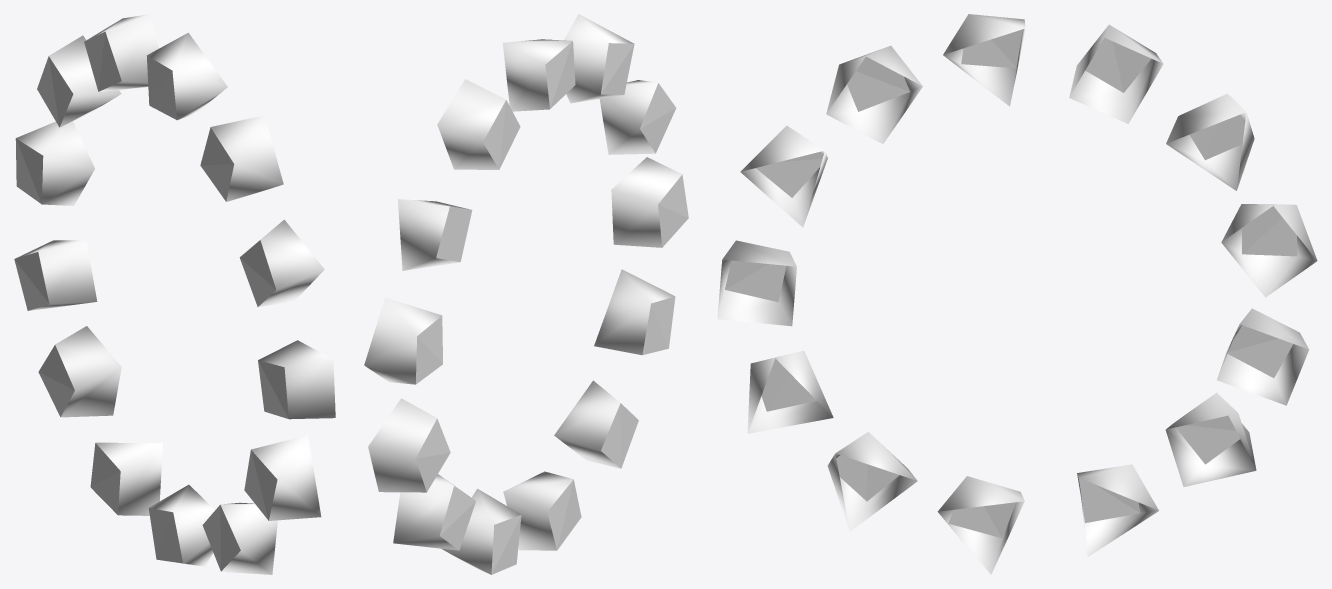
The picture shows the model from 3 angles, left to right: view 1: azimuth 30°, elevation 25°; view 2: azimuth 150°, elevation 25°; view 3: azimuth 270°, elevation 25°; orthographic projection. The views are drawn at different scales.
Size of the model in its own units: 0.0127 by 0.1465 by 0.1457.
Materials: 1 (1 with a texture image).
